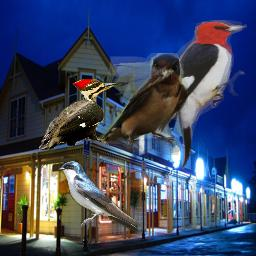Swallow: (98, 53, 188, 155), (58, 161, 143, 232)
Woodpecker: (155, 20, 247, 169), (39, 79, 121, 150)
